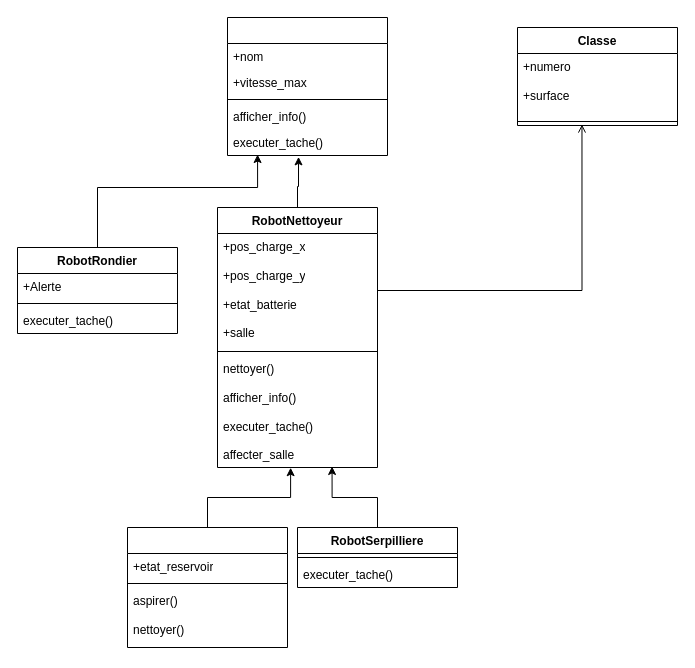
Image size: 695x668. Some labels were removed from this diagram. The box of each missing label's shape, as (x1, y1, x2, y2) in pixels:
Robot: (226, 16, 388, 156)
RobotAspirateur: (126, 526, 288, 648)
